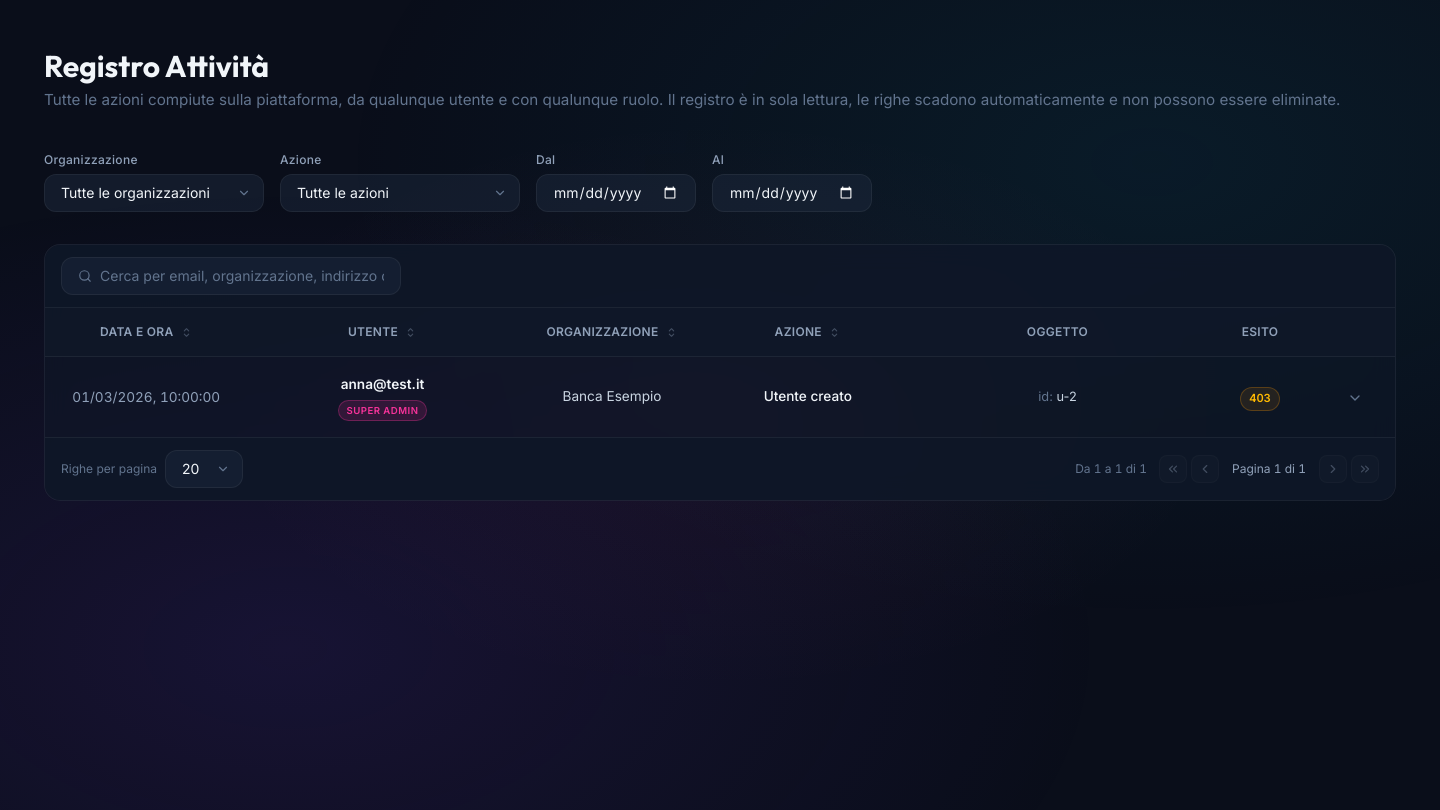
le righe del registro › spiega cosa vuol dire il codice della risposta
This screenshot has width=1440, height=810.
Hover over the text "403": (1260, 399) [1240, 387, 1280, 410]
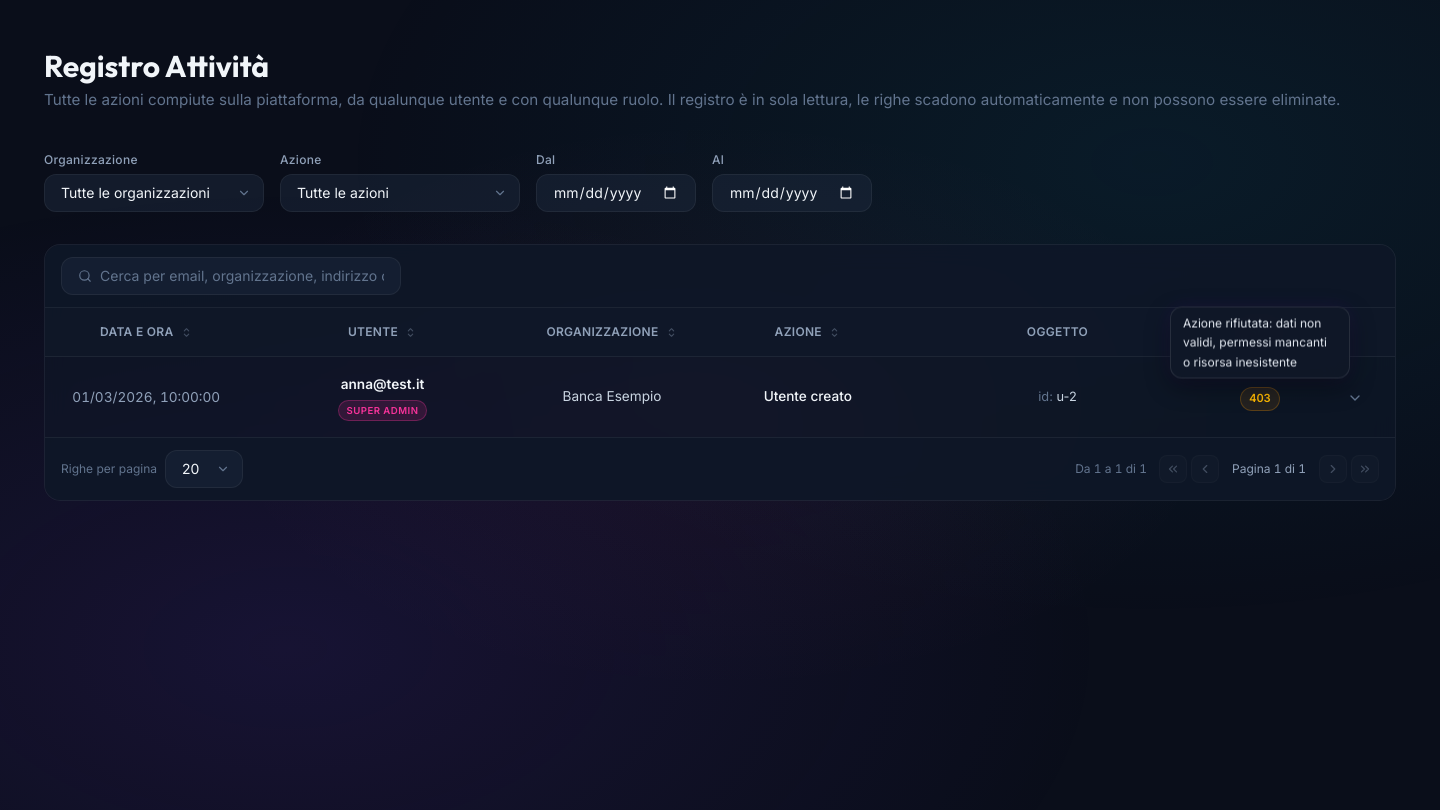
Expected: the tooltip "Azione rifiutata" is shown, [1183, 315, 1327, 369]
